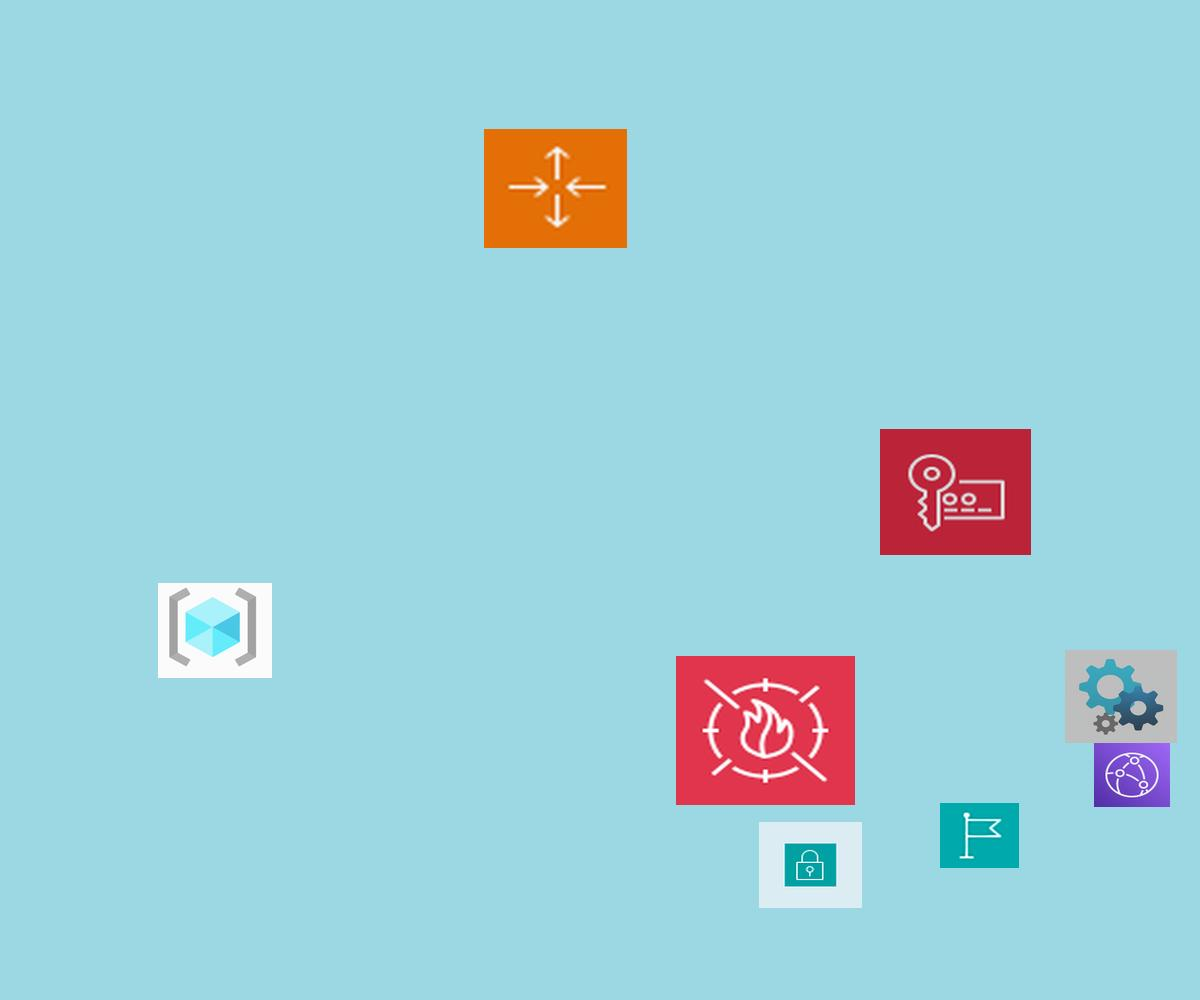AWS-CloudFront: (1094, 743, 1170, 807)
AWS-Key-Management-Service: (880, 429, 1031, 555)
AWS-Private-subnet: (759, 822, 862, 908)
AWS-Region: (940, 803, 1019, 868)
AWS-Scaling-group: (484, 129, 627, 248)
AWS-WAF: (676, 656, 855, 805)
Azure_api: (1065, 650, 1177, 743)
Azure_resource_group: (158, 583, 272, 678)
